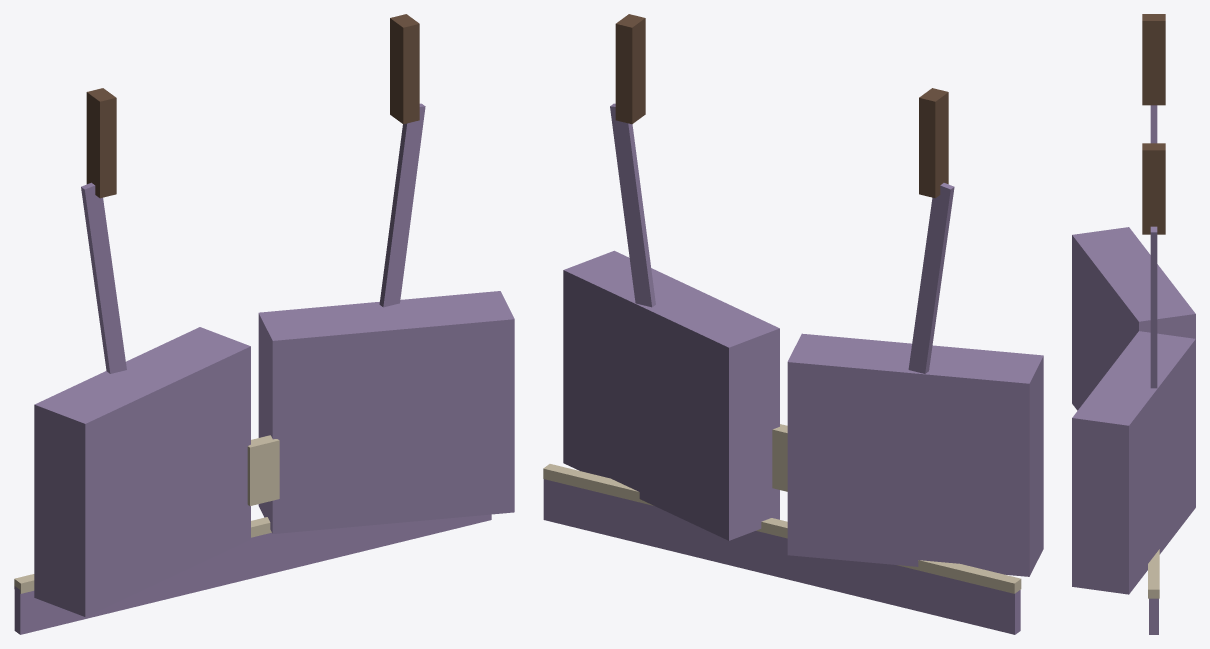
The model's file is bra-line-mint.glb.
3 views of the same model, side by side, from view 1: azimuth 30°, elevation 25°; view 2: azimuth 150°, elevation 25°; view 3: azimuth 270°, elevation 25° (orthographic). The views are drawn at different scales.
Visible parts, largest first — view 1: accent-lilac, wood, paper; view 2: accent-lilac, wood, paper; view 3: accent-lilac, wood, paper.
Part boxes in pixels (left/top/right/bottom): accent-lilac: left=14, top=103, right=514, bottom=634; wood: left=86, top=14, right=419, bottom=198; paper: left=14, top=435, right=279, bottom=593; accent-lilac: left=543, top=103, right=1043, bottom=634; wood: left=615, top=14, right=948, bottom=198; paper: left=543, top=424, right=1021, bottom=593; accent-lilac: left=1072, top=105, right=1195, bottom=634; wood: left=1142, top=14, right=1165, bottom=234; paper: left=1148, top=549, right=1159, bottom=598.
Size of the model in its own units: 0.286 by 0.3 by 0.0744.
